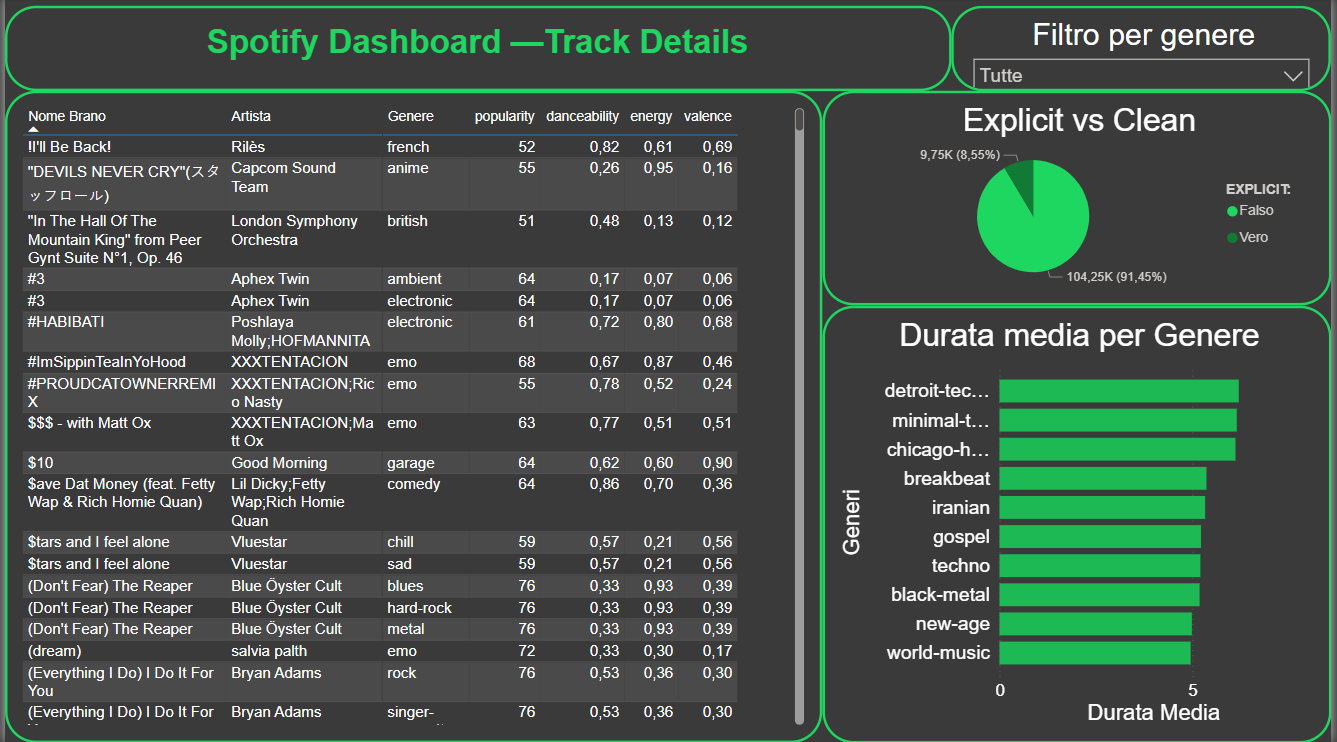

Layout of this report page (visuals, bound fields, positions):
{"tool":"powerbi","page":{"name":"Track Details","canvas":[1280,720],"ordinal":2},"visuals":[{"type":"tableEx","fields":{"Values":["spotify_tracks.track_name","spotify_tracks.Artisti","spotify_tracks.track_genre","spotify_tracks.popularity","spotify_tracks.danceability","spotify_tracks.energy","spotify_tracks.valence"]},"box":[0,78.3,730,641.7],"z":0},{"type":"clusteredBarChart","title":"Durata media per Genere","fields":{"Category":["spotify_tracks.track_genre"],"Y":["Avg(spotify_tracks.Duration (min))"]},"box":[730,298.3,550,421.7],"z":1000},{"type":"slicer","title":"Filtro per genere","fields":{"Values":["spotify_tracks.track_genre"]},"box":[980,0,300,90],"z":2000},{"type":"pieChart","title":"Explicit vs Clean","fields":{"Category":["spotify_tracks.explicit"],"Y":["CountNonNull(spotify_tracks.track_id)"]},"box":[888.3,90,391.7,208.3],"z":3000},{"type":"textbox","box":[396.7,0,516.7,45],"z":4000}]}

Visuals, with their boxes in screenshot pixels (x1, y1, x2, y2), scaled from the page's 1280x720 canvas onto the 1337x742 screenshot:
tableEx - spotify_tracks.track_name x spotify_tracks.Artisti: (0, 81, 763, 741)
"Durata media per Genere" clusteredBarChart: (763, 307, 1336, 741)
"Filtro per genere" slicer: (1024, 0, 1336, 93)
"Explicit vs Clean" pieChart: (928, 93, 1336, 307)
textbox: (414, 0, 954, 46)
